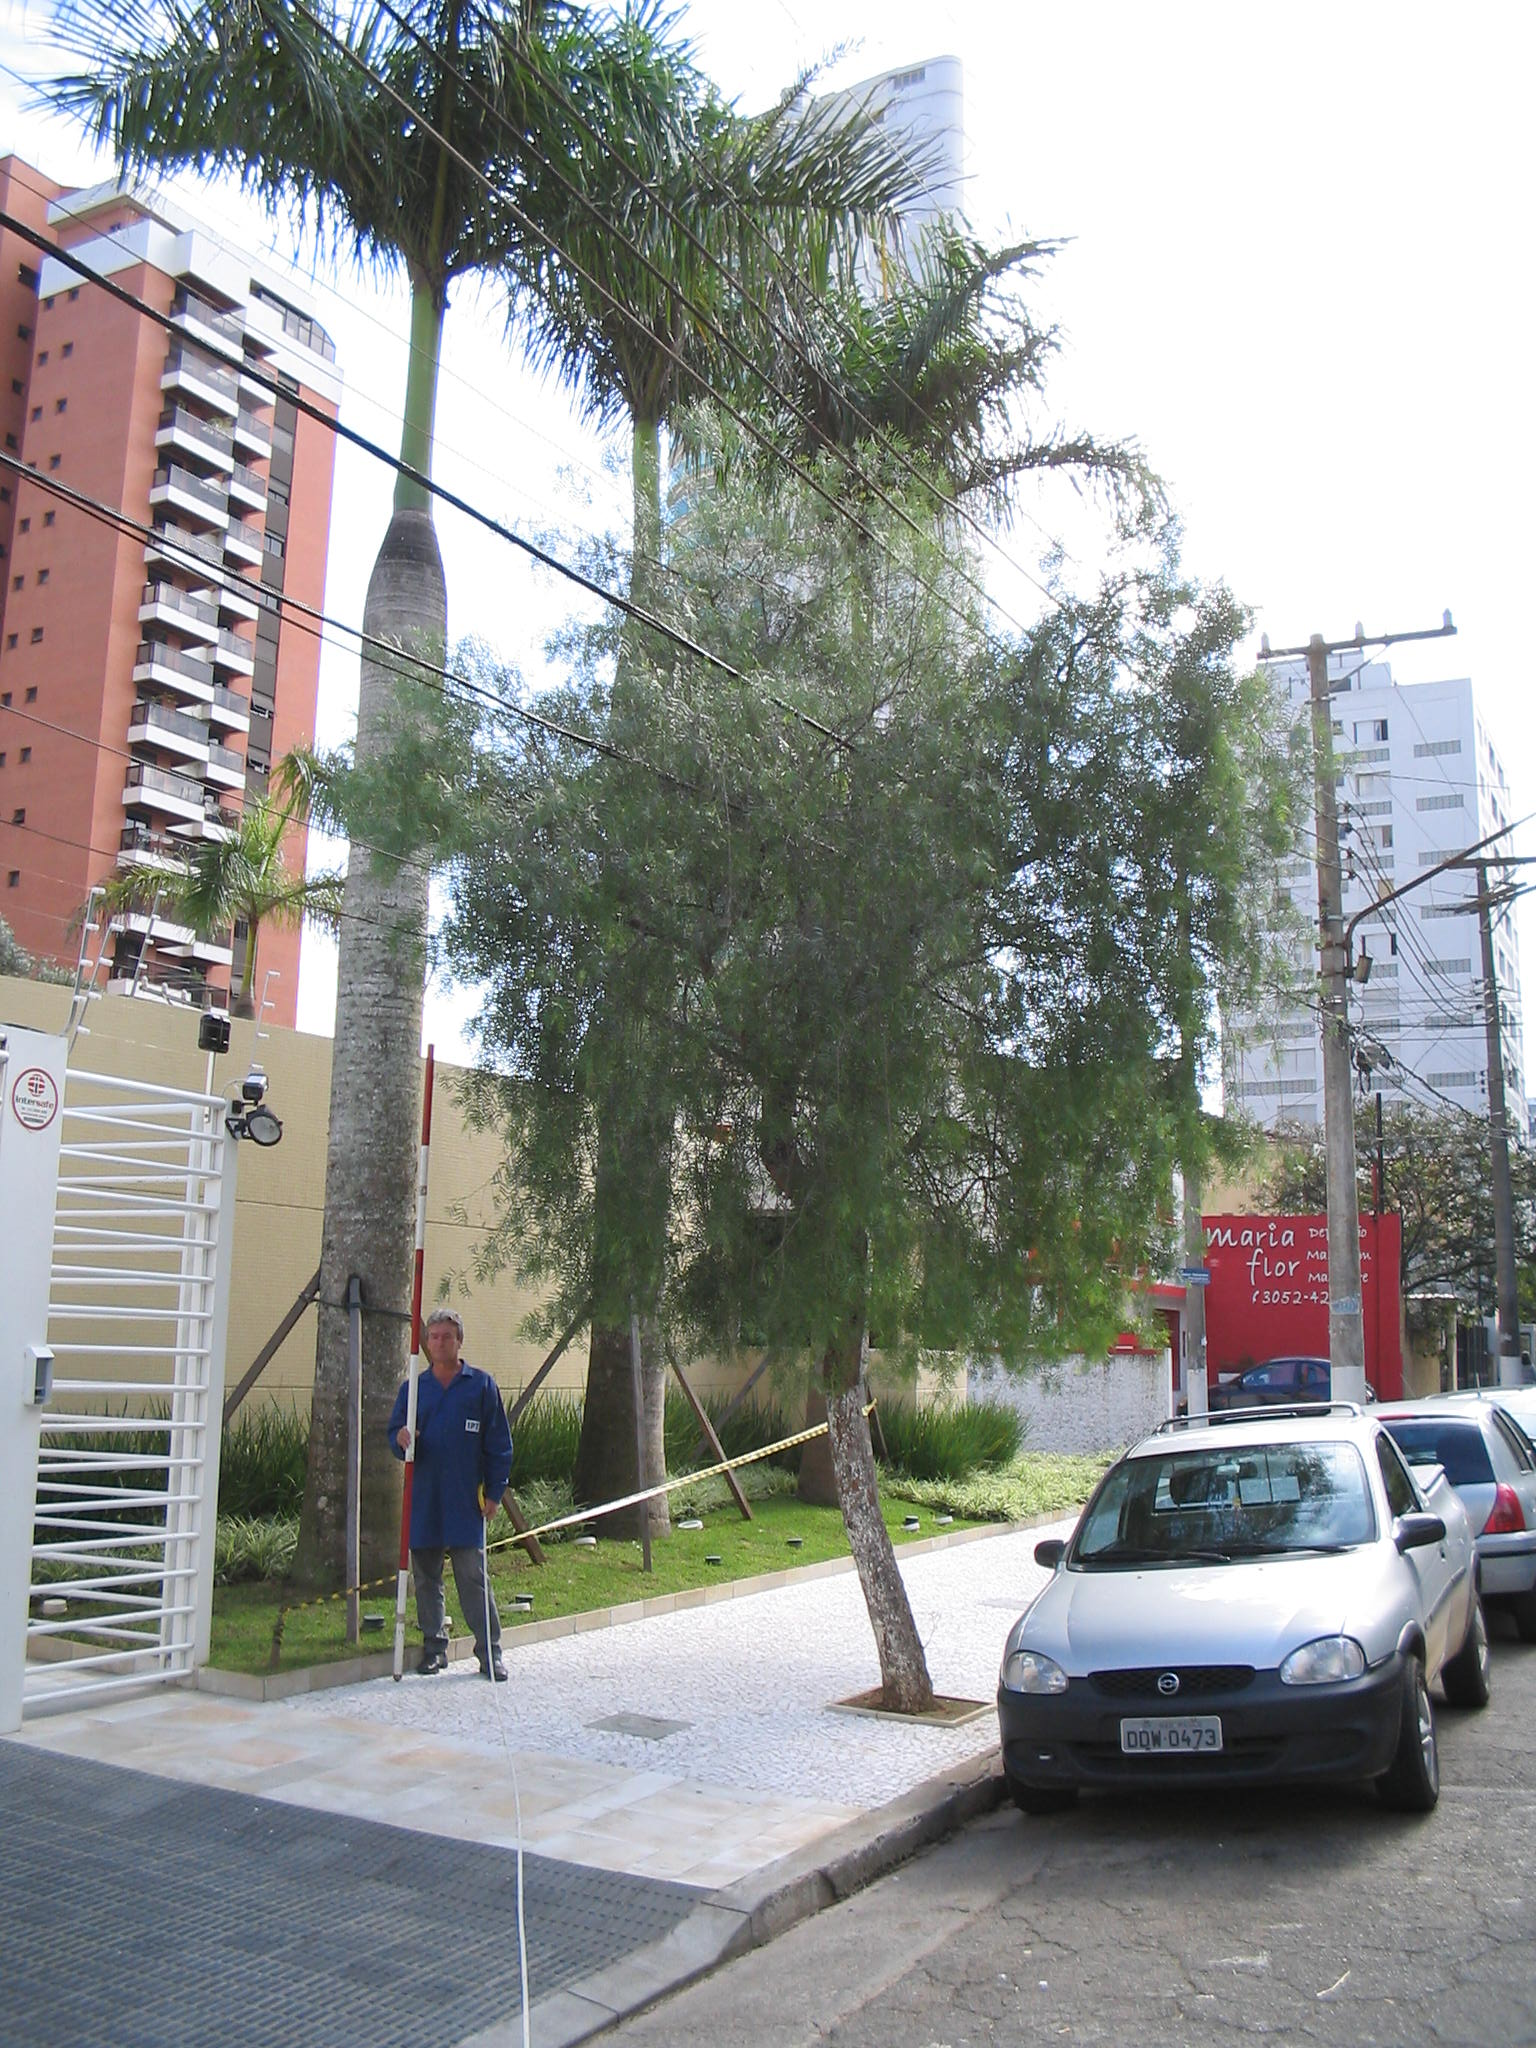crown: (382, 482, 1321, 1400)
stem: (771, 1363, 970, 1708)
stick: (373, 1042, 458, 1684)
tree: (378, 476, 1336, 1716), (39, 11, 586, 1600)
